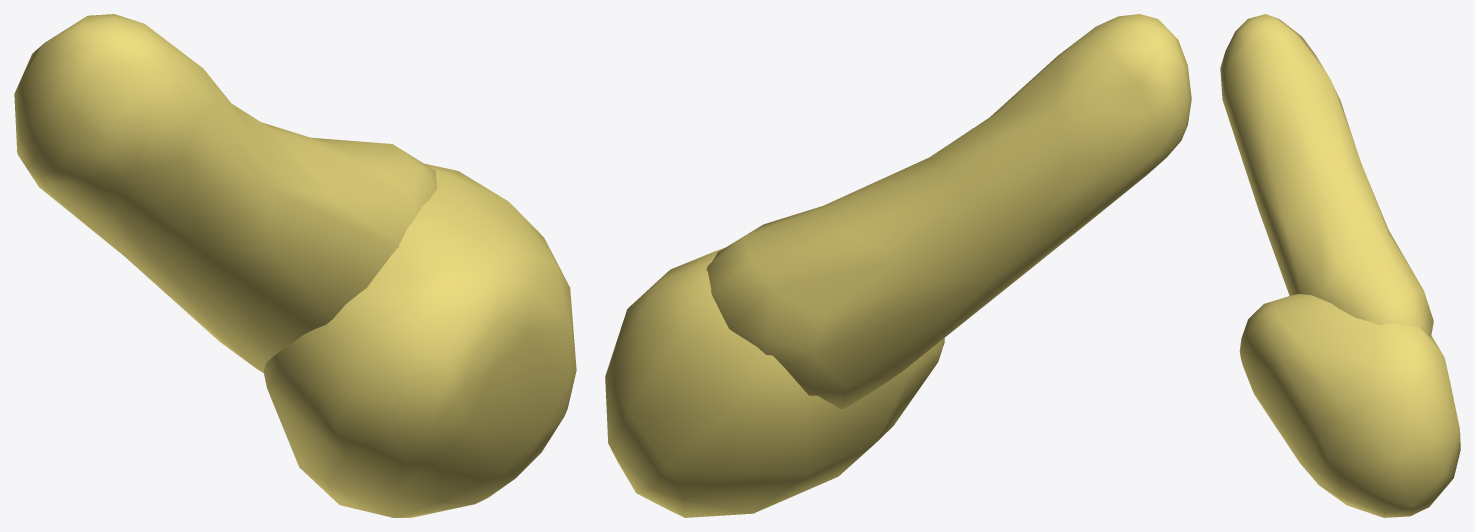
Rendered from inferior-colliculus-r.glb.
The picture shows the model from 3 angles, left to right: view 1: azimuth 30°, elevation 25°; view 2: azimuth 150°, elevation 25°; view 3: azimuth 270°, elevation 25°; orthographic projection. The views are drawn at different scales.
Parts seen in each view (by area): view 1: Inferior colliculus.r; view 2: Inferior colliculus.r; view 3: Inferior colliculus.r.
Boxes of the visible parts, x1,y1,x2,y2 form: Inferior colliculus.r: (14, 14, 576, 517); Inferior colliculus.r: (605, 14, 1191, 517); Inferior colliculus.r: (1220, 14, 1460, 517).
Bounding box in the file's own units: 0.0141 × 0.0141 × 0.00825.
